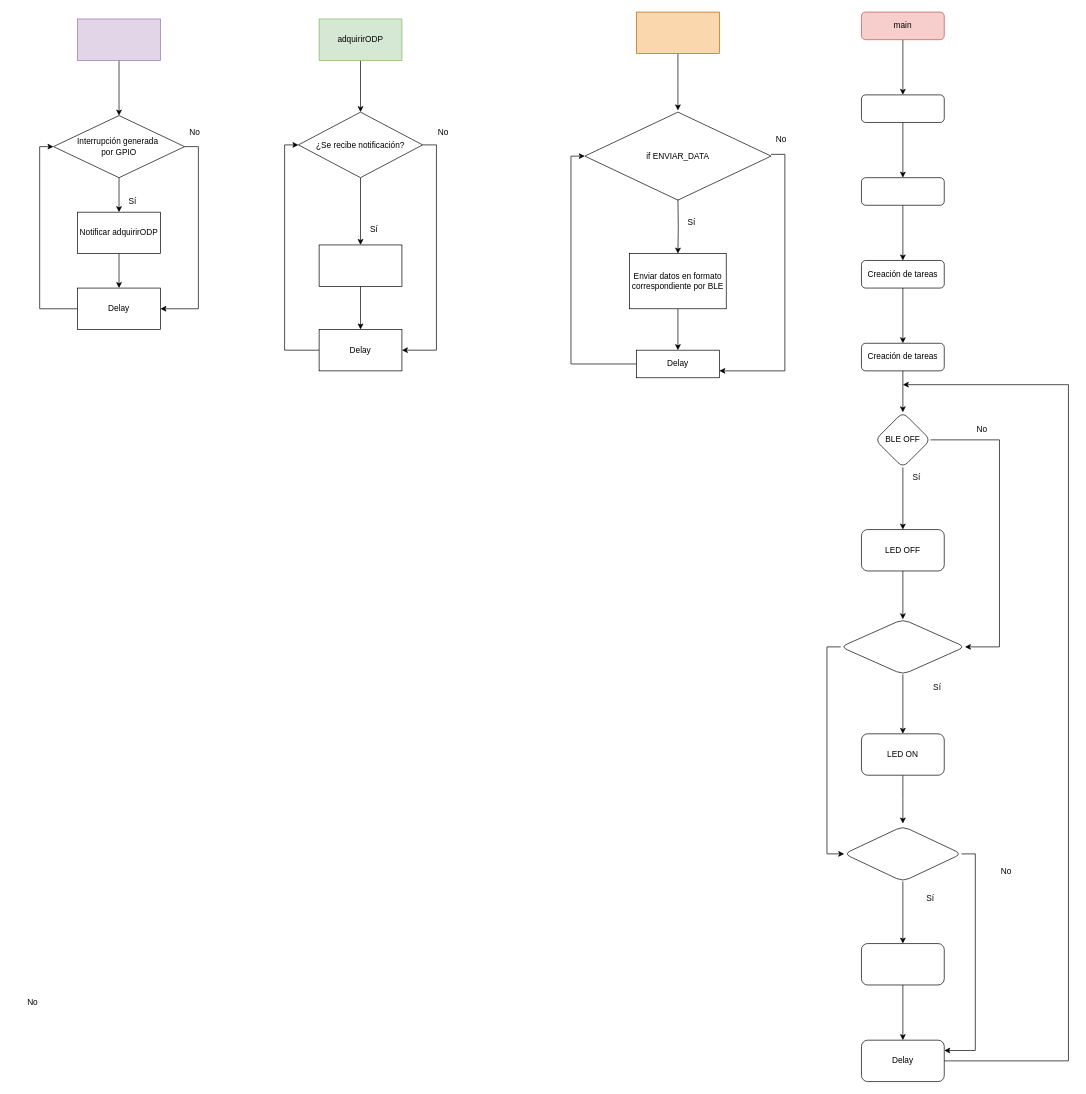
Image size: 1086x1094. Some labels were removed from this diagram. Each missing label, with the box of its shape:
BLE CONNECTED: (840, 619, 965, 674)
BLE DISCONNECTED: (844, 826, 962, 881)
Configurar BLE: (861, 94, 944, 122)
HRM PROCESS: (77, 18, 160, 60)
Inicializar LED, GPIO, I2C, BLE, HRM.: (861, 177, 944, 205)
LED TOGGLE: (861, 943, 944, 985)
mostrarDatos: (636, 11, 719, 53)
Se adquieren los datos de ODP: (318, 244, 402, 286)
